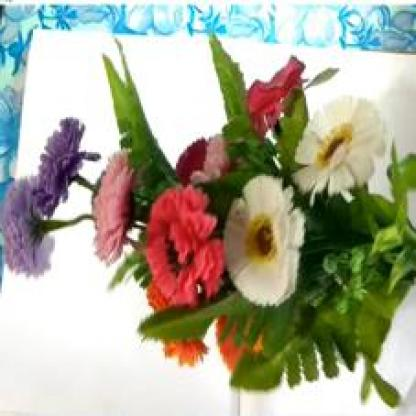flower: (11, 39, 414, 414)
